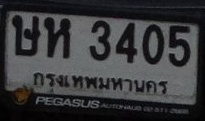txt34: (10, 14, 41, 57)
txt36: (42, 16, 72, 60)
